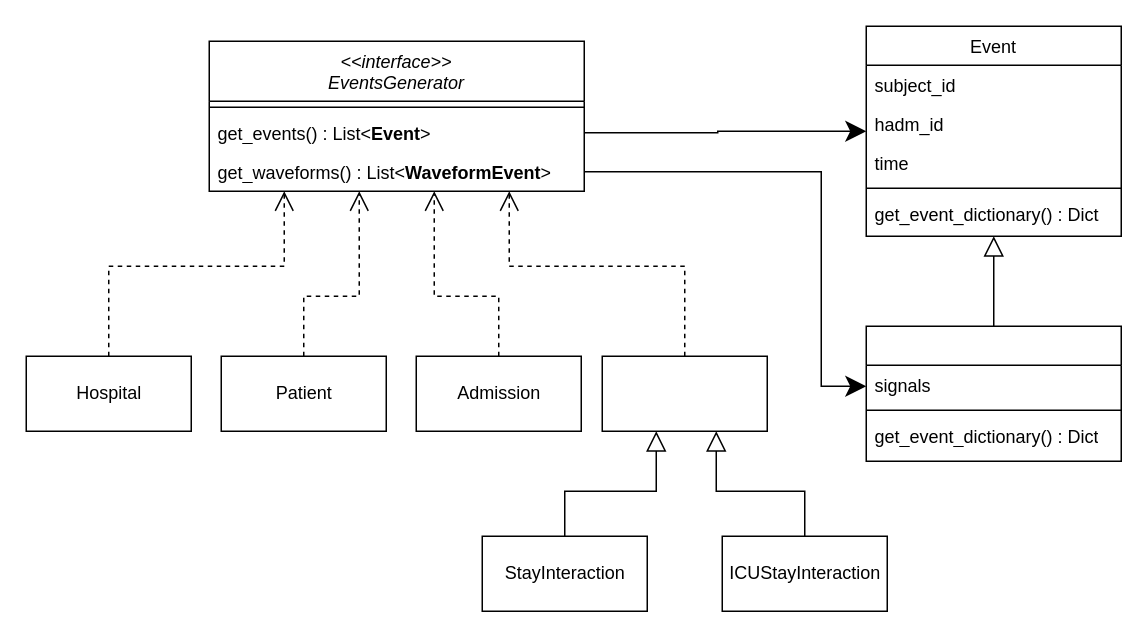
The diagram is 1148 pixels wide and 638 high, and some of its shapes have lost their labels. The box of each missing label's shape, as (x1, y1, x2, y2) in pixels:
<<abstract class>> Interaction: (601, 355, 767, 431)
WaveformEvent: (865, 325, 1121, 461)
